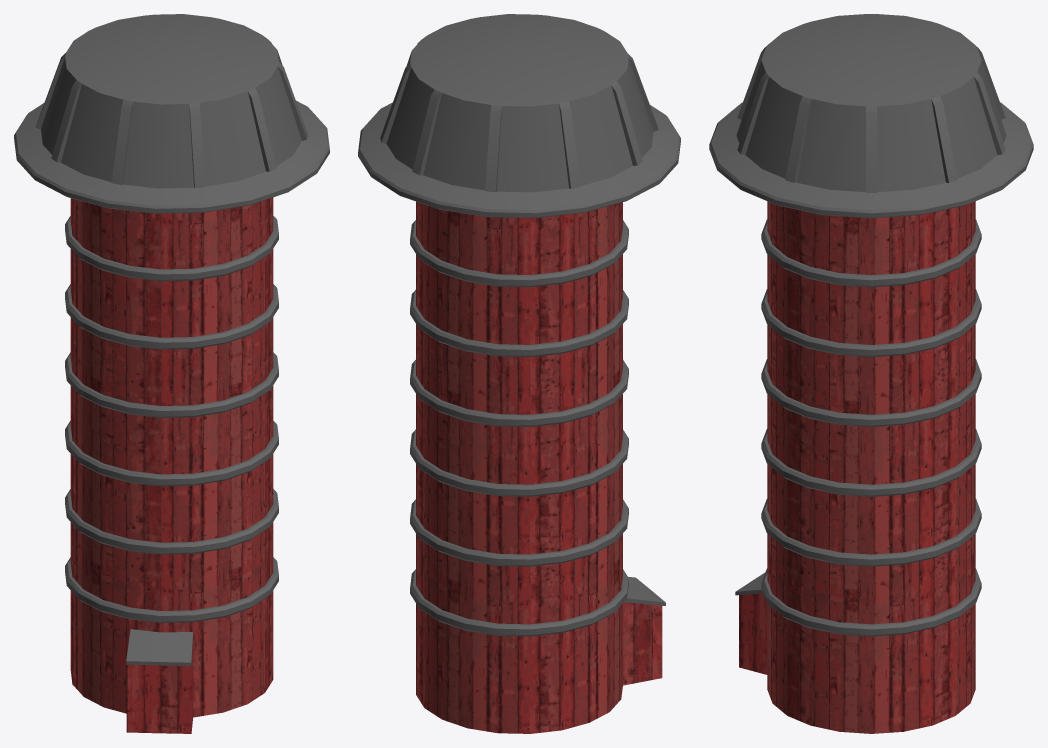
File: Torresemente.fbx
3 renders of one model, left to right at view 1: azimuth 30°, elevation 25°; view 2: azimuth 150°, elevation 25°; view 3: azimuth 270°, elevation 25°, orthographic. The views are drawn at different scales.
Parts seen in each view (by area): view 1: TorreSemente; view 2: TorreSemente; view 3: TorreSemente.
Part boxes in pixels (x1=…): TorreSemente: x1=14, y1=14, x2=329, y2=733; TorreSemente: x1=358, y1=14, x2=680, y2=733; TorreSemente: x1=709, y1=14, x2=1033, y2=733.
Bounding box in the file's own units: 1326 × 2902 × 1326.
2 materials, 1 textured.
